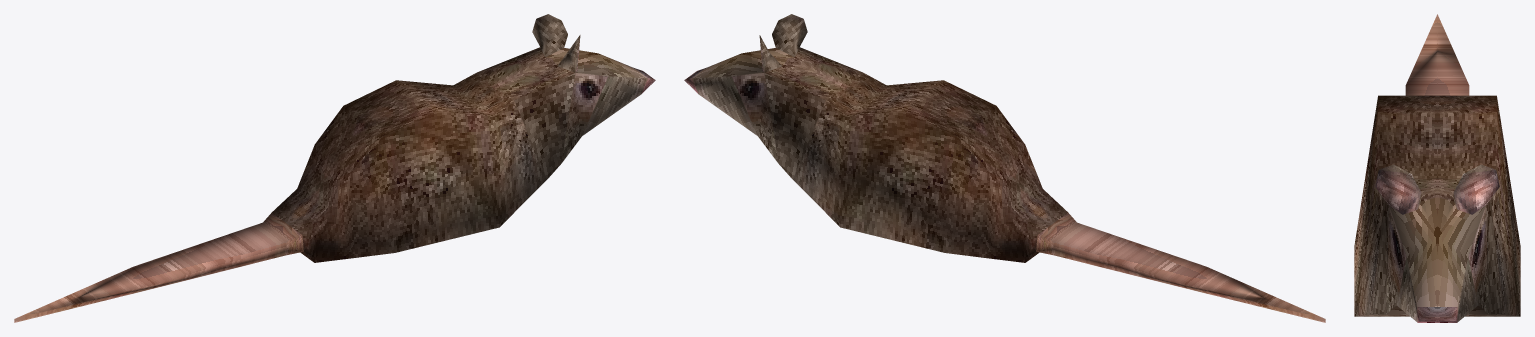
The model's file is rats.glb.
3 views of the same model, side by side, from view 1: azimuth 30°, elevation 25°; view 2: azimuth 150°, elevation 25°; view 3: azimuth 270°, elevation 25° (orthographic). The views are drawn at different scales.
Parts seen in each view (by area): view 1: Cube; view 2: Cube; view 3: Cube.
Part boxes in pixels (<box>): Cube: <box>14,14,655,322</box>; Cube: <box>684,14,1325,322</box>; Cube: <box>1354,14,1520,322</box>.
Bounding box in the file's own units: 4.59 × 1.13 × 0.7548.
1 material, 1 textured.
